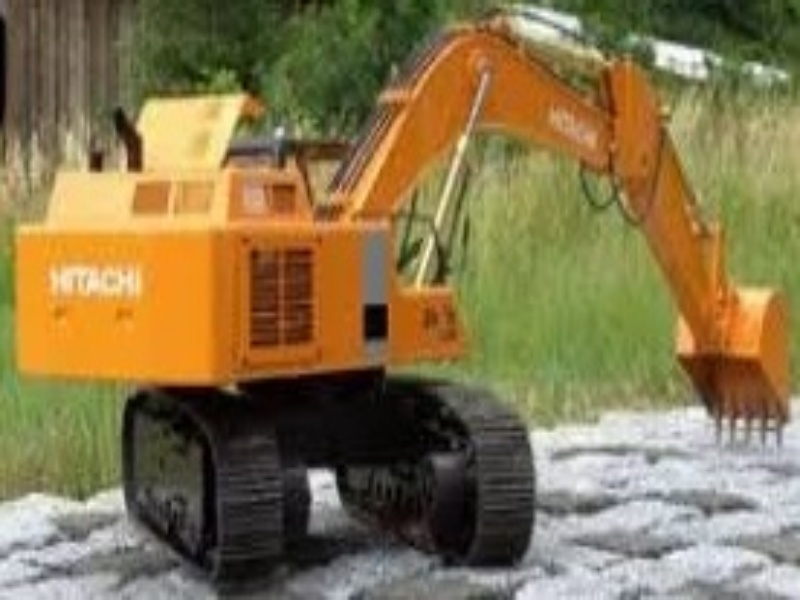wajueji: (11, 67, 604, 600)
